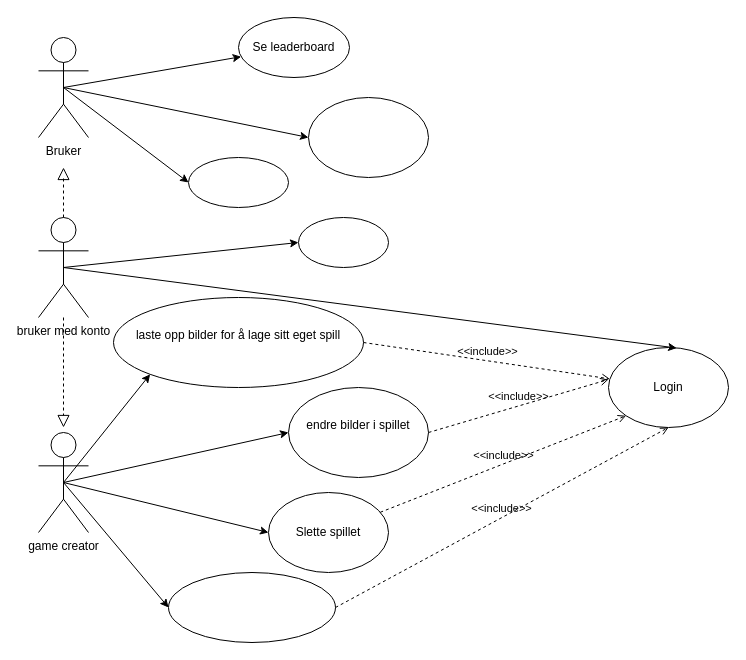
This 746x660 diagram has some shape labels left out. Here are the shapes that lost their labels. From the top down, the box of each, then its label:
(308, 96, 428, 178): lage brukernavn
(188, 156, 288, 208): Velge spill
(298, 216, 388, 268): registrer
(168, 572, 336, 642): Lage custom memo game
